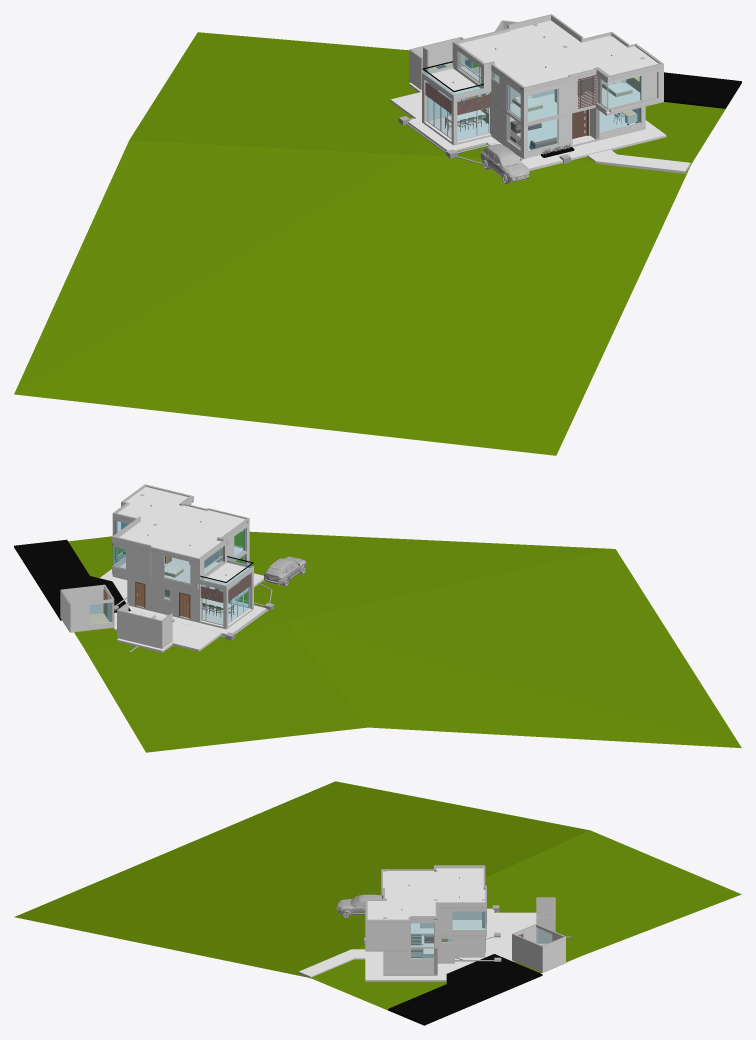
File: proy-processed.gltf
The picture shows the model from 3 angles, top to bottom: view 1: azimuth 30°, elevation 25°; view 2: azimuth 150°, elevation 25°; view 3: azimuth 270°, elevation 25°; orthographic projection. The views are drawn at different scales.
Visible parts, largest first — view 1: object 14, Suelo [324993], object 281, Suelo [324967], Suelo [324954], Suelo [324933], Muro básico [324645], Suelo [324976], Suelo [325012], 3DGeom-52, object 190, Suelo [325076] (+2 smaller); view 2: object 14, Suelo [324993], Suelo [324967], object 281, Muro básico [324689], Muro básico [325084], Muro básico [324715], Suelo [325076], Suelo [324954], Muro básico [324726], Suelo [325012], Muro básico [325064] (+4 smaller); view 3: object 14, Suelo [324993], Suelo [324967], object 281, Suelo [325076], Muro básico [324685], Suelo [324933], Muro básico [325064], Suelo [324976], object 192, Muro básico [325063], Muro básico [324697] (+5 smaller).
Boxes of the visible parts, x1,y1,x2,y2 form: object 14: (14, 32, 731, 455); Suelo [324993]: (458, 20, 663, 92); object 281: (408, 111, 666, 170); Suelo [324967]: (664, 72, 741, 108); Suelo [324954]: (422, 111, 645, 158); Suelo [324933]: (477, 73, 663, 126); Muro básico [324645]: (522, 81, 570, 158); Suelo [324976]: (587, 149, 690, 173); Suelo [325012]: (424, 66, 491, 100); 3DGeom-52: (480, 144, 529, 180); object 190: (608, 76, 640, 107); Suelo [325076]: (390, 92, 451, 118); object 14: (68, 531, 741, 752); Suelo [324993]: (112, 487, 249, 563); Suelo [324967]: (14, 539, 130, 620); object 281: (99, 569, 266, 635); Muro básico [324689]: (145, 578, 198, 620); Muro básico [325084]: (117, 610, 160, 648); Muro básico [324715]: (112, 536, 151, 582); Suelo [325076]: (113, 611, 221, 651); Suelo [324954]: (112, 575, 253, 629); Muro básico [324726]: (70, 599, 113, 631); Suelo [325012]: (190, 562, 253, 590); Muro básico [325064]: (62, 584, 105, 614); object 14: (14, 781, 741, 1020); Suelo [324993]: (365, 868, 486, 923); Suelo [324967]: (388, 954, 542, 1025); object 281: (365, 908, 494, 981); Suelo [325076]: (494, 912, 536, 961); Muro básico [324685]: (383, 951, 433, 974); Suelo [324933]: (365, 920, 486, 951); Muro básico [325064]: (512, 933, 541, 971); Suelo [324976]: (298, 949, 365, 978); object 192: (411, 924, 433, 957); Muro básico [325063]: (541, 936, 565, 972); Muro básico [324697]: (437, 909, 486, 934).
Size of the model in its own units: 64.37 by 12.4 by 64.01.
35 materials, 1 textured.
